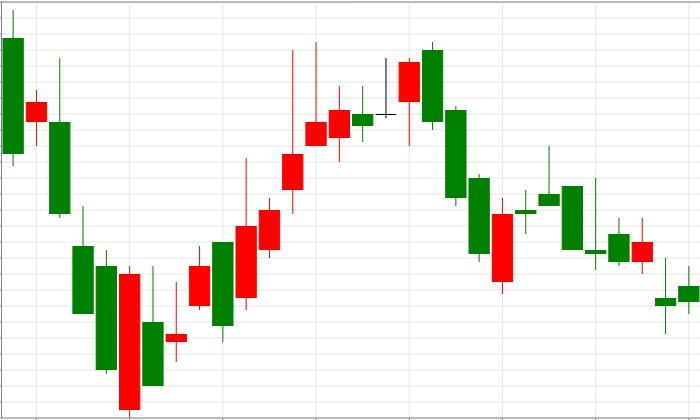shooting_star_fall: (235, 42, 327, 311)
